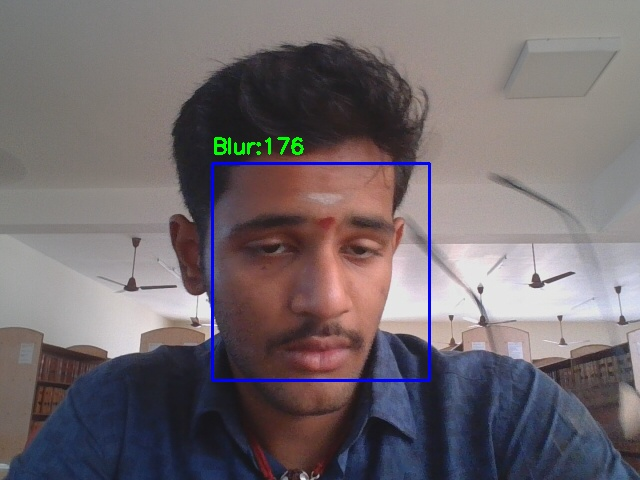real: (212, 163, 429, 380)
